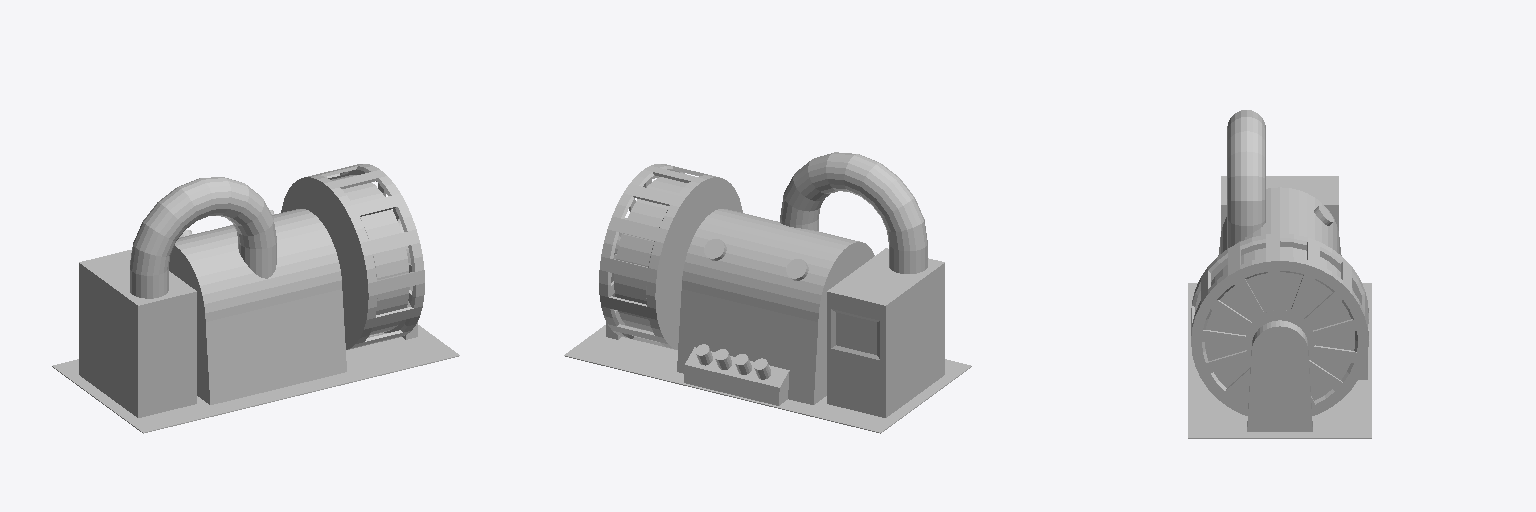
File: generador.obj
3 renders of one model, left to right at view 1: azimuth 30°, elevation 25°; view 2: azimuth 150°, elevation 25°; view 3: azimuth 270°, elevation 25°, orthographic.
Visible parts, largest first — view 1: Generator2_pCylinder9; view 2: Generator2_pCylinder9; view 3: Generator2_pCylinder9.
Part boxes in pixels (bbox=[...]): Generator2_pCylinder9: bbox=[52, 164, 459, 433]; Generator2_pCylinder9: bbox=[564, 152, 971, 433]; Generator2_pCylinder9: bbox=[1188, 110, 1371, 438].
Bounding box in the file's own units: 4 × 2.54 × 2.